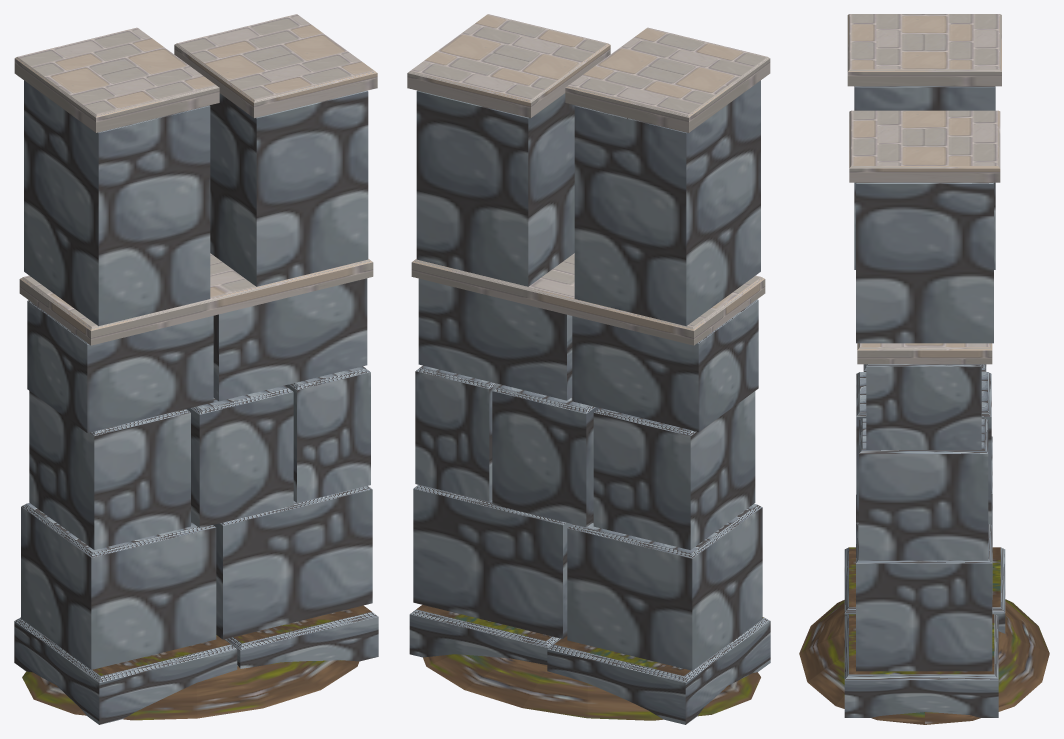
File: stone_wall.obj
3 renders of one model, left to right at view 1: azimuth 30°, elevation 25°; view 2: azimuth 150°, elevation 25°; view 3: azimuth 270°, elevation 25°, orthographic. The views are drawn at different scales.
Parts seen in each view (by area): view 1: StoneWall; view 2: StoneWall; view 3: StoneWall.
Part boxes in pixels (x1,y1,x2,y2): StoneWall: [14, 14, 378, 724]; StoneWall: [407, 14, 770, 724]; StoneWall: [799, 14, 1049, 724].
Size of the model in its own units: 1.08 by 1.98 by 0.78.
1 material, 1 textured.
